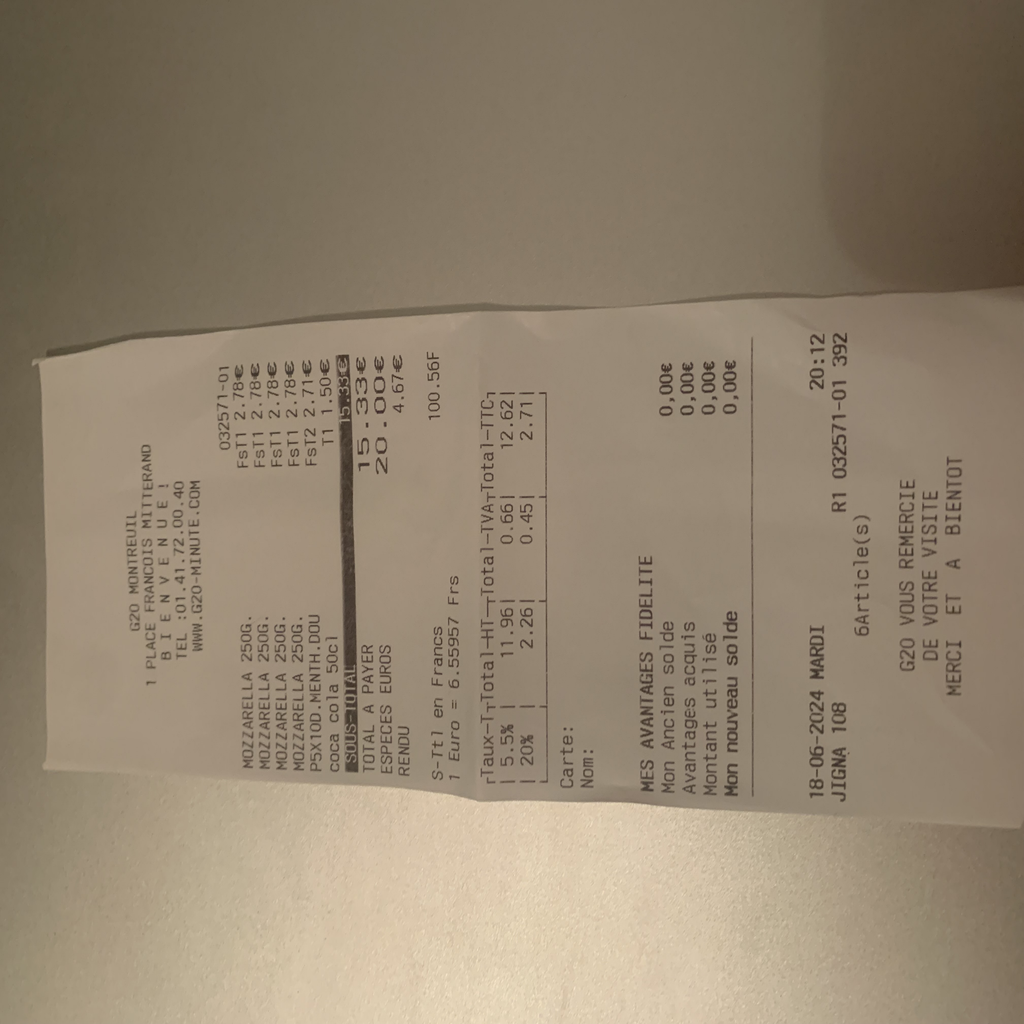recipt: (34, 283, 1022, 829)
